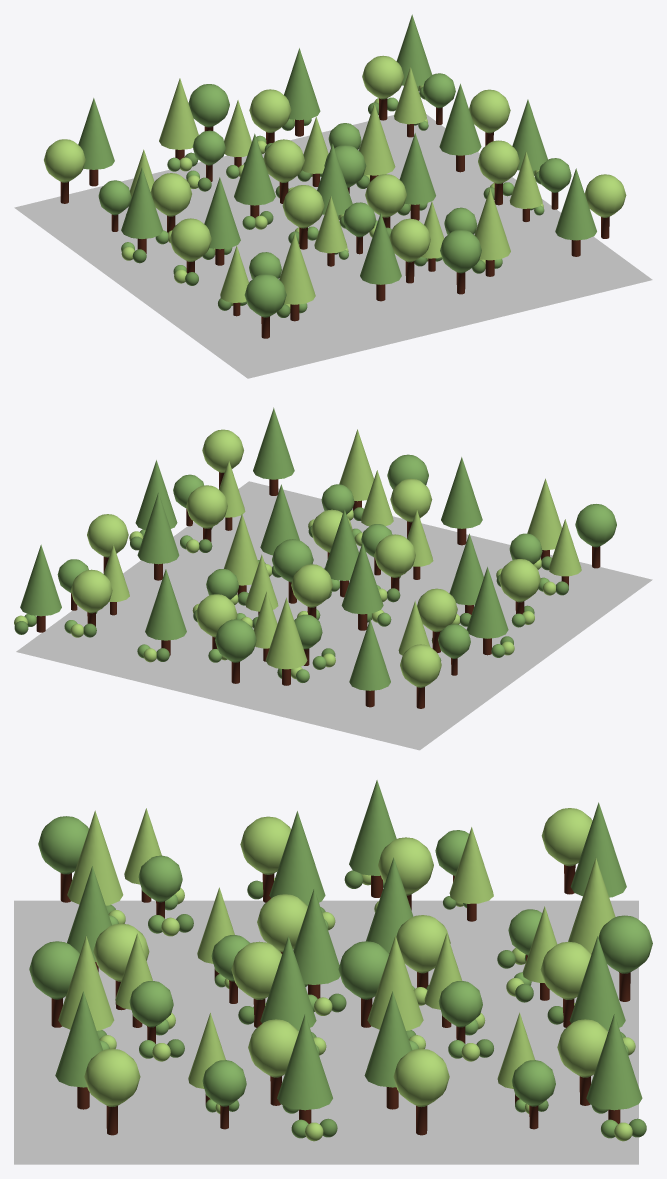
Rendered from level_3_tree.fbx.
The picture shows the model from 3 angles, top to bottom: view 1: azimuth 30°, elevation 25°; view 2: azimuth 150°, elevation 25°; view 3: azimuth 270°, elevation 25°; orthographic projection. The views are drawn at different scales.
Parts seen in each view (by area): view 1: Plane, Tree_1_24, Tree_1_6, Tree_1_18, Tree_1_7, Tree_1_9, Tree_1_8, Tree_1_20, Tree_1_3, Tree_1_2, Tree_1_12, Tree_1_15 (+36 smaller); view 2: Plane, Tree_1_13, Tree_1_12, Tree_1_9, Tree_1_6, Tree_1_18, Tree_1_8, Tree_1_24, Tree_1_7, Tree_1_15, Tree_2_8, Tree_2_12 (+37 smaller); view 3: Plane, Tree_1_13, Tree_1_19, Tree_1, Tree_2_18, Tree_2_24, Tree_2_8, Tree_1_18, Tree_1_24, Tree_1_21, Tree_1_15, Tree_1_3 (+37 smaller).
Part boxes in pixels (left/top/right/bottom): Plane: left=14, top=114, right=652, bottom=378; Tree_1_24: left=555, top=168, right=596, bottom=256; Tree_1_6: left=360, top=213, right=401, bottom=301; Tree_1_18: left=439, top=83, right=481, bottom=172; Tree_1_7: left=121, top=167, right=162, bottom=253; Tree_1_9: left=234, top=133, right=275, bottom=217; Tree_1_8: left=159, top=78, right=198, bottom=159; Tree_1_20: left=474, top=188, right=510, bottom=276; Tree_1_3: left=204, top=177, right=240, bottom=265; Tree_1_2: left=279, top=232, right=315, bottom=321; Tree_1_12: left=78, top=98, right=114, bottom=186; Tree_1_15: left=284, top=48, right=320, bottom=136; Plane: left=16, top=481, right=652, bottom=750; Tree_1_13: left=20, top=544, right=61, bottom=632; Tree_1_12: left=349, top=619, right=390, bottom=707; Tree_1_9: left=341, top=542, right=383, bottom=630; Tree_1_6: left=441, top=457, right=482, bottom=545; Tree_1_18: left=137, top=492, right=179, bottom=580; Tree_1_8: left=265, top=597, right=307, bottom=685; Tree_1_24: left=253, top=407, right=294, bottom=495; Tree_1_7: left=466, top=567, right=508, bottom=655; Tree_1_15: left=145, top=569, right=186, bottom=655; Tree_2_8: left=215, top=619, right=256, bottom=683; Tree_2_12: left=400, top=644, right=441, bottom=708; Plane: left=14, top=900, right=638, bottom=1164; Tree_1_13: left=586, top=1014, right=642, bottom=1123; Tree_1_19: left=277, top=1014, right=332, bottom=1123; Tree_1: left=293, top=888, right=340, bottom=998; Tree_2_18: left=393, top=1048, right=449, bottom=1135; Tree_2_24: left=84, top=1049, right=140, bottom=1135; Tree_2_8: left=598, top=915, right=652, bottom=1001; Tree_1_18: left=364, top=991, right=412, bottom=1109; Tree_1_24: left=55, top=991, right=102, bottom=1109; Tree_1_21: left=260, top=936, right=316, bottom=1031; Tree_1_15: left=569, top=936, right=625, bottom=1030; Tree_1_3: left=269, top=811, right=325, bottom=906.
Bounding box in the file's own units: 20.36 × 4.97 × 20.45.
